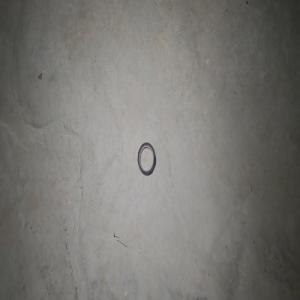Tape: (137, 142, 156, 175)
